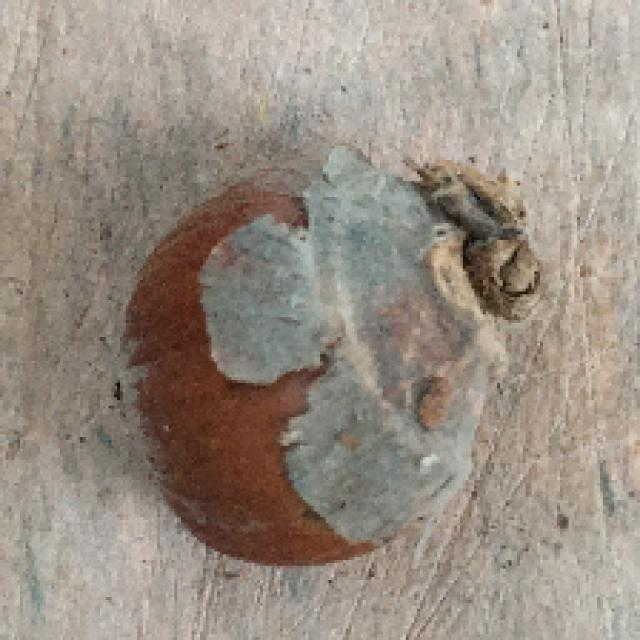damagedHazelnut: (99, 141, 537, 571)
